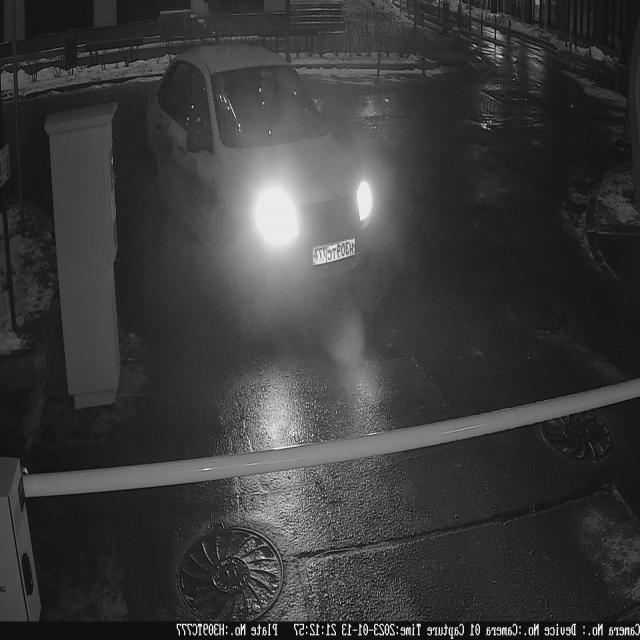car-plate-numbers: (309, 235, 359, 271)
